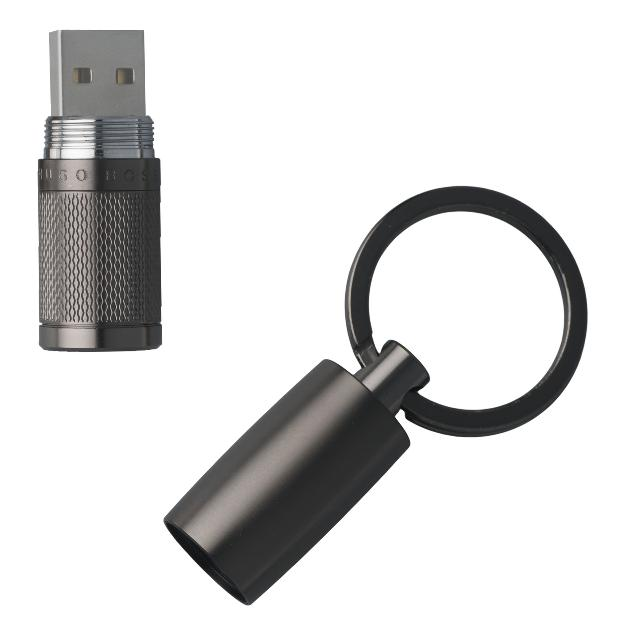USB-Flash-Drive: (37, 30, 163, 353)
